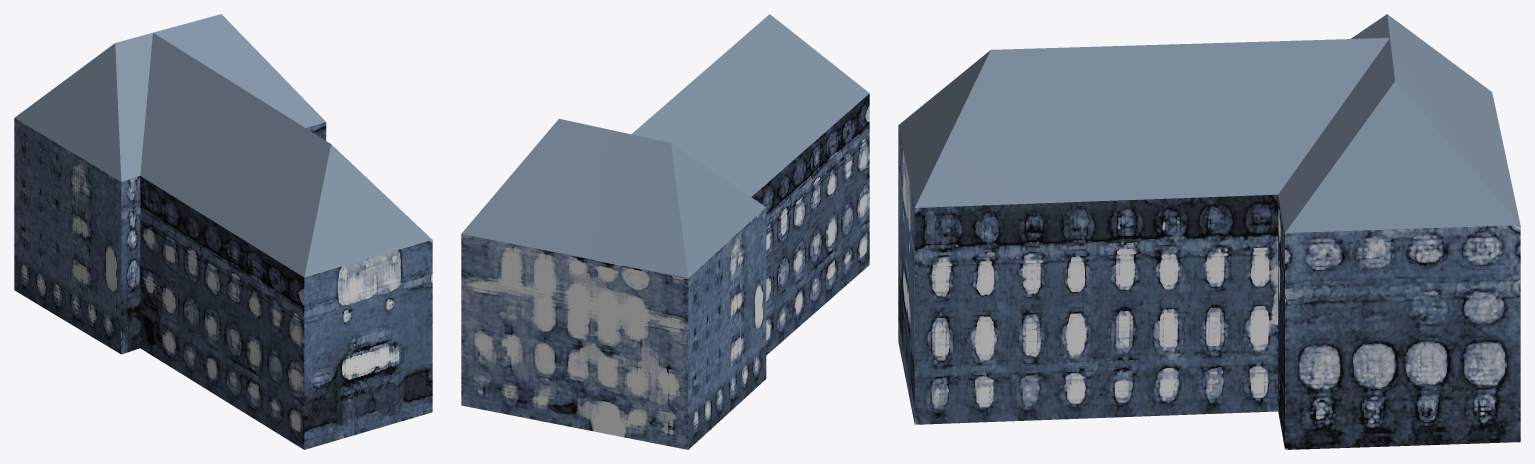
Rendered from Mueller-Bau.gltf.
The picture shows the model from 3 angles, left to right: view 1: azimuth 30°, elevation 25°; view 2: azimuth 150°, elevation 25°; view 3: azimuth 270°, elevation 25°; orthographic projection. The views are drawn at different scales.
Parts seen in each view (by area): view 1: Dach.1; view 2: Dach.1; view 3: Dach.1.
Boxes of the visible parts, left/top/right/bottom form: Dach.1: left=14, top=14, right=432, bottom=449; Dach.1: left=461, top=14, right=869, bottom=449; Dach.1: left=898, top=14, right=1520, bottom=449.
Size of the model in its own units: 22.81 by 25 by 42.55.
Materials: 9 (8 with a texture image).
